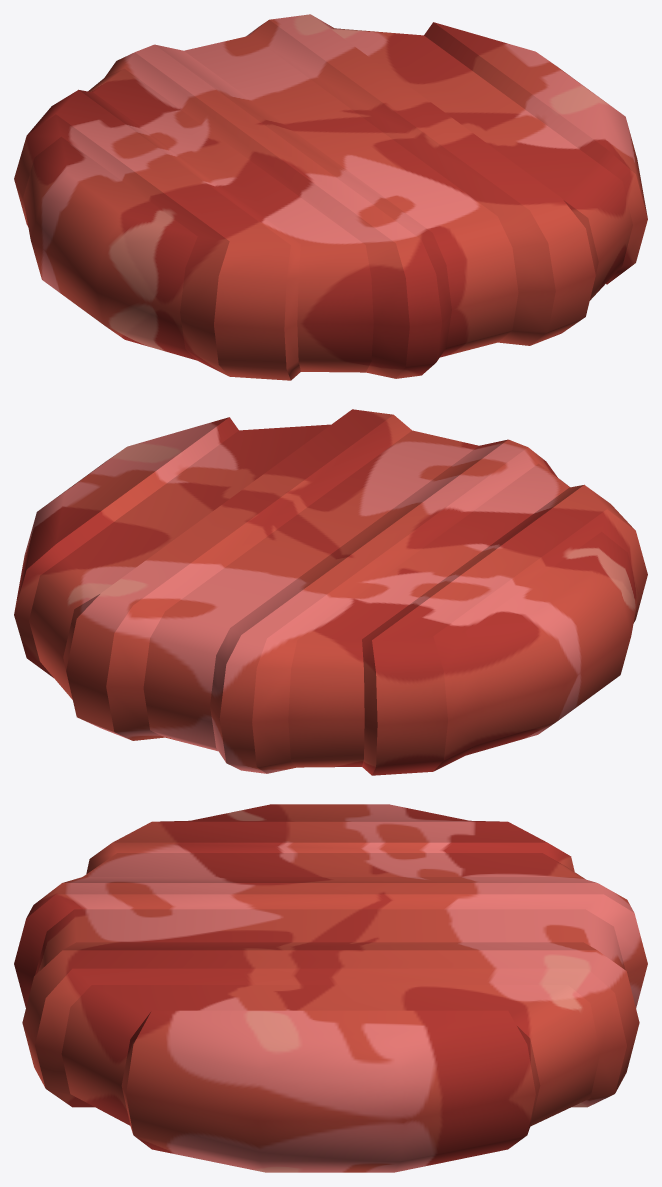
The model's file is Chicken_Meat_01_Patty_Raw.fbx.
3 views of the same model, one above another, from view 1: azimuth 30°, elevation 25°; view 2: azimuth 150°, elevation 25°; view 3: azimuth 270°, elevation 25° (orthographic). The views are drawn at different scales.
Visible parts, largest first — view 1: Chicken_Meat_01_Patty_Raw; view 2: Chicken_Meat_01_Patty_Raw; view 3: Chicken_Meat_01_Patty_Raw.
Part boxes in pixels (<box>): Chicken_Meat_01_Patty_Raw: <box>14,14,647,380</box>; Chicken_Meat_01_Patty_Raw: <box>14,409,647,775</box>; Chicken_Meat_01_Patty_Raw: <box>14,804,647,1172</box>.
Size of the model in its own units: 28.23 by 6.79 by 28.09.
